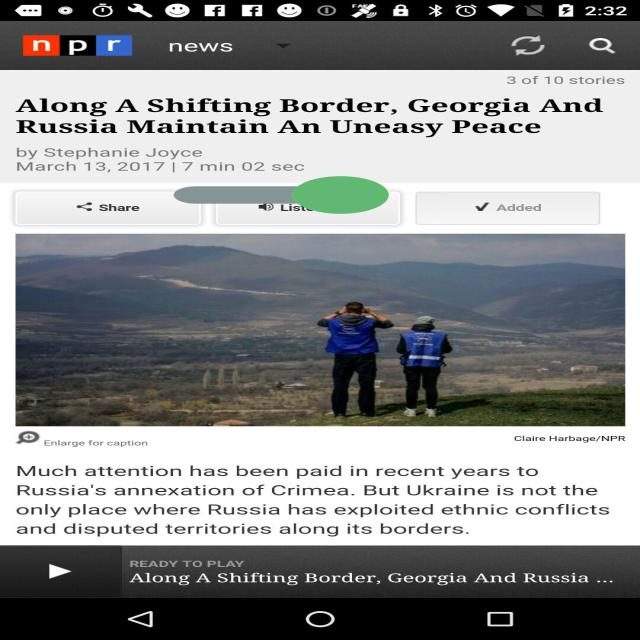social proof: (174, 153, 388, 237)
